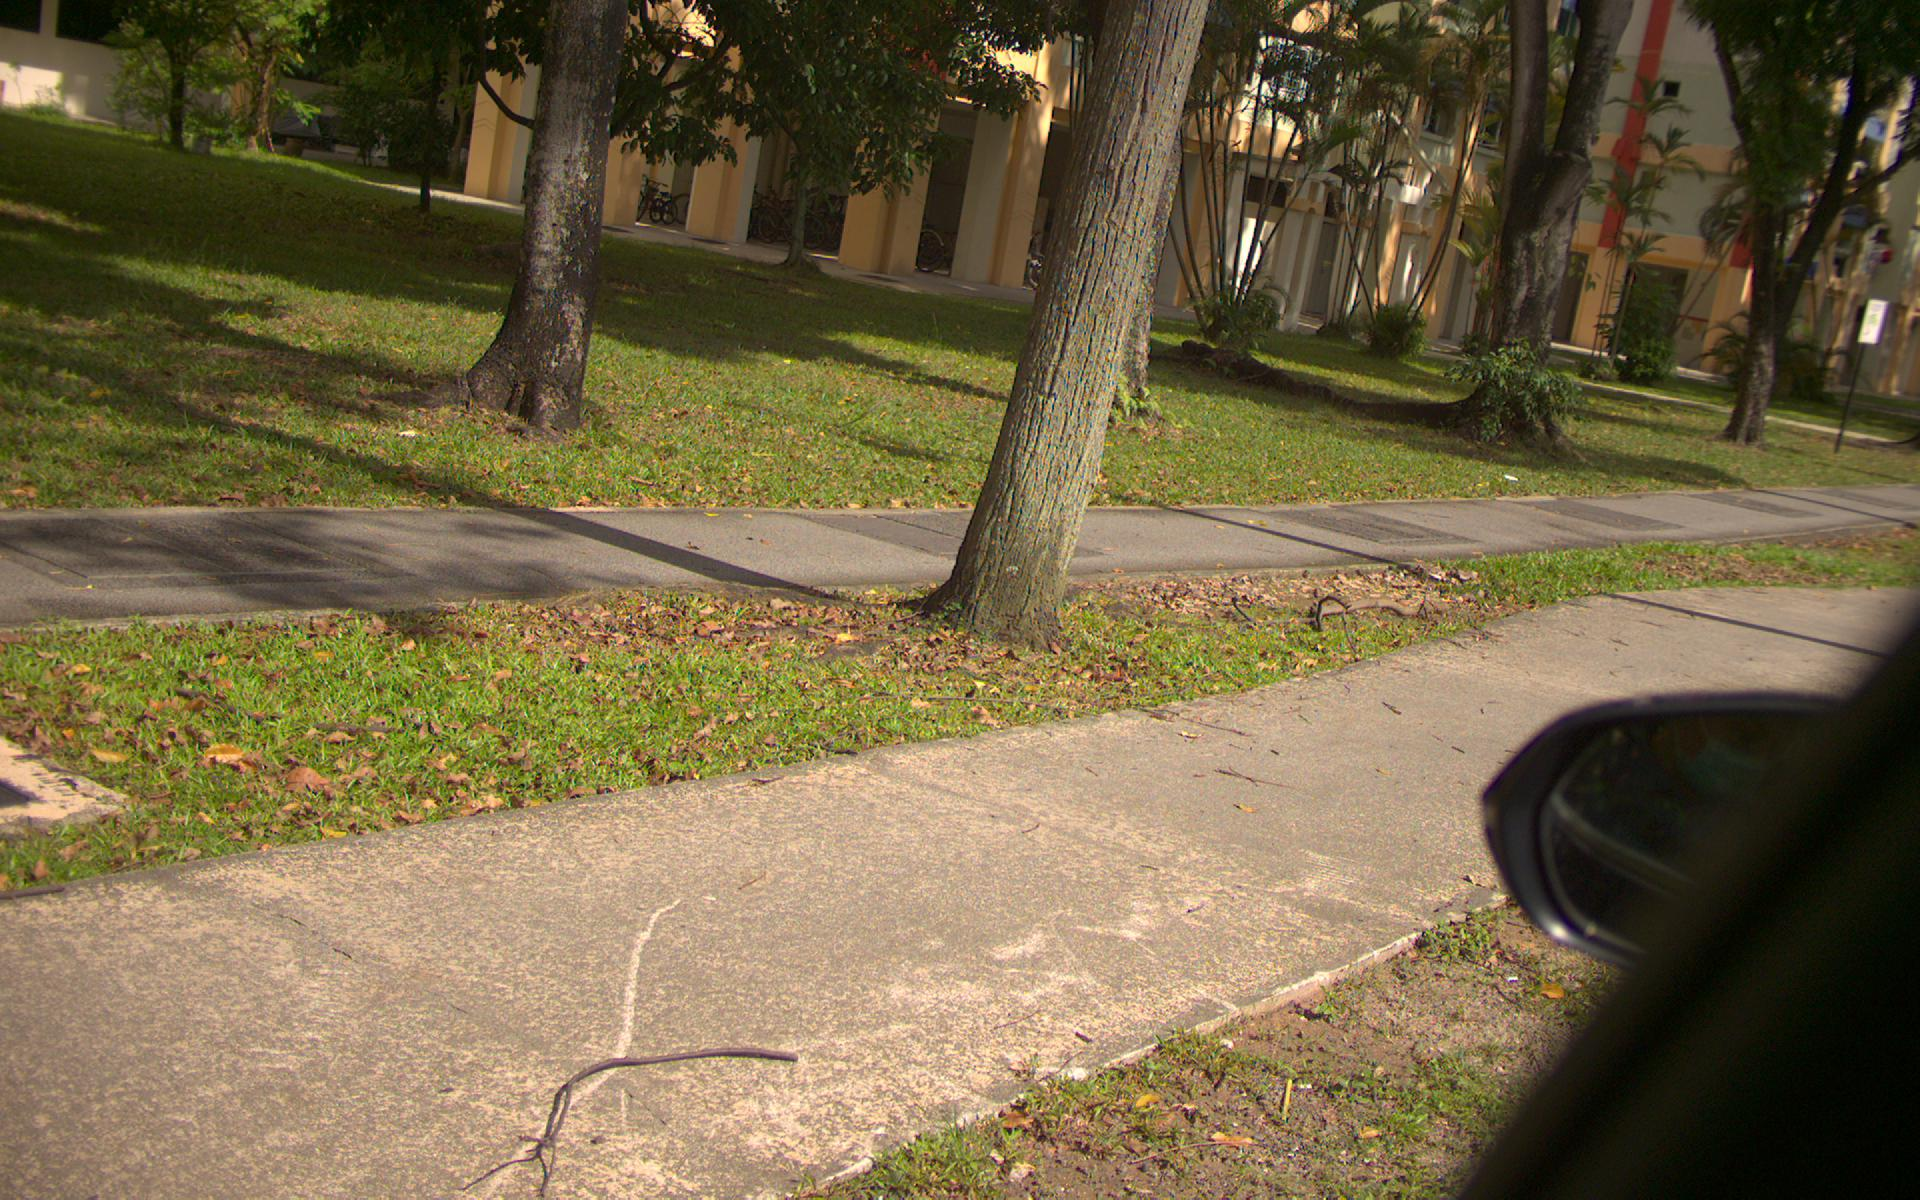pathway_low: (1, 910, 843, 1188), (8, 503, 1386, 568)
road_turf_low: (35, 366, 1920, 476), (6, 632, 847, 766)
